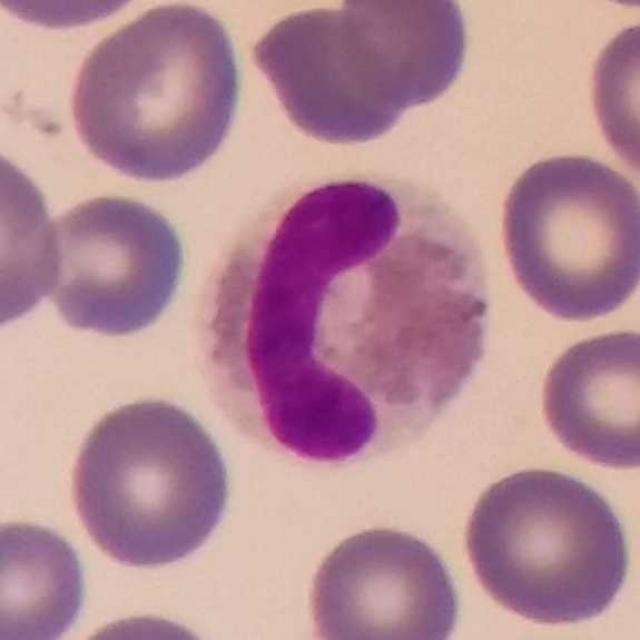Eosinophil: (196, 169, 500, 476)
RBC: (64, 0, 247, 187), (62, 390, 240, 573), (458, 460, 636, 631), (492, 147, 639, 325), (245, 1, 417, 151), (34, 188, 192, 343), (299, 517, 467, 640), (328, 0, 476, 112), (533, 322, 640, 474), (0, 137, 68, 338), (0, 512, 93, 640), (582, 12, 640, 186), (54, 605, 238, 640), (1, 0, 163, 35)
